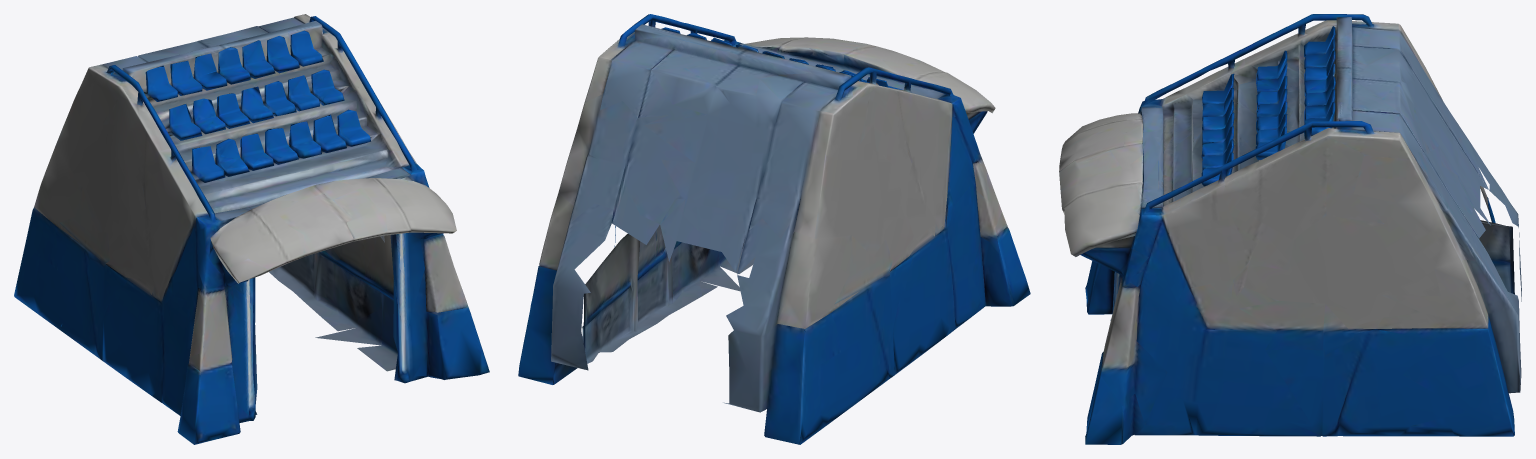
File: stadium-tunnel.glb
3 views of the same model, side by side, from view 1: azimuth 30°, elevation 25°; view 2: azimuth 150°, elevation 25°; view 3: azimuth 270°, elevation 25° (orthographic). The views are drawn at different scales.
Visible parts, largest first — view 1: stadium-tunnel; view 2: stadium-tunnel; view 3: stadium-tunnel.
Boxes of the visible parts, x1,y1,x2,y2 form: stadium-tunnel: [14, 14, 489, 444]; stadium-tunnel: [518, 14, 1030, 444]; stadium-tunnel: [1059, 14, 1521, 444].
Size of the model in its own units: 11.08 by 10 by 13.83.
Materials: 1 (1 with a texture image).
